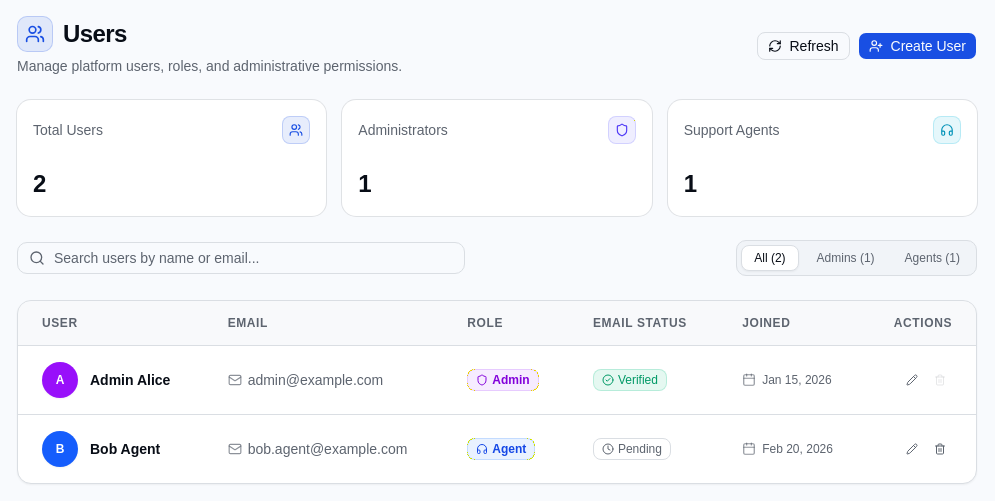
UsersPage Component › 4. Role Filtering › restores all users when clicking 'All' filter button
Expected: the text "Admin Alice" is shown, [90,372,170,388]
Note: Filter to Admins first
Click the button "Admins (1)": (846, 258) [805,246,887,270]
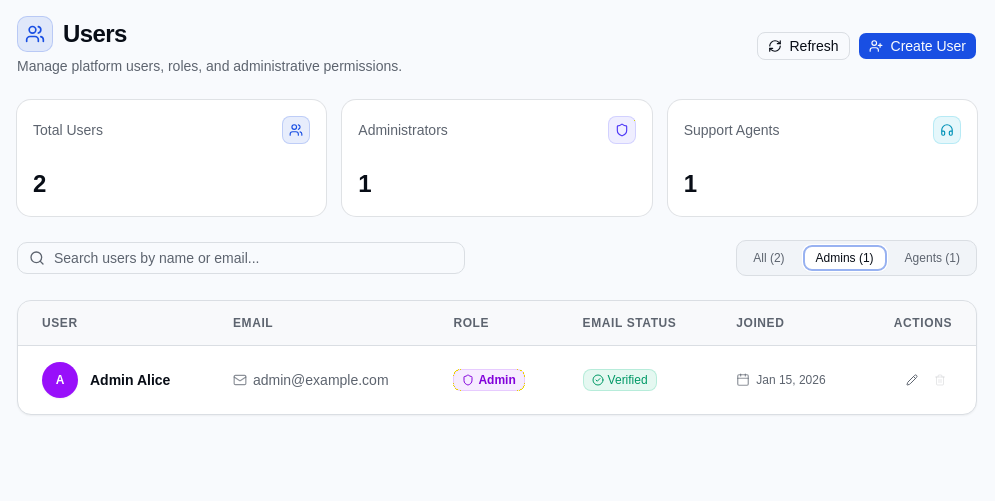
Now the text "Bob Agent" is gone
Note: Click All
Click the button "All (2)": (769, 258) [741,246,797,270]
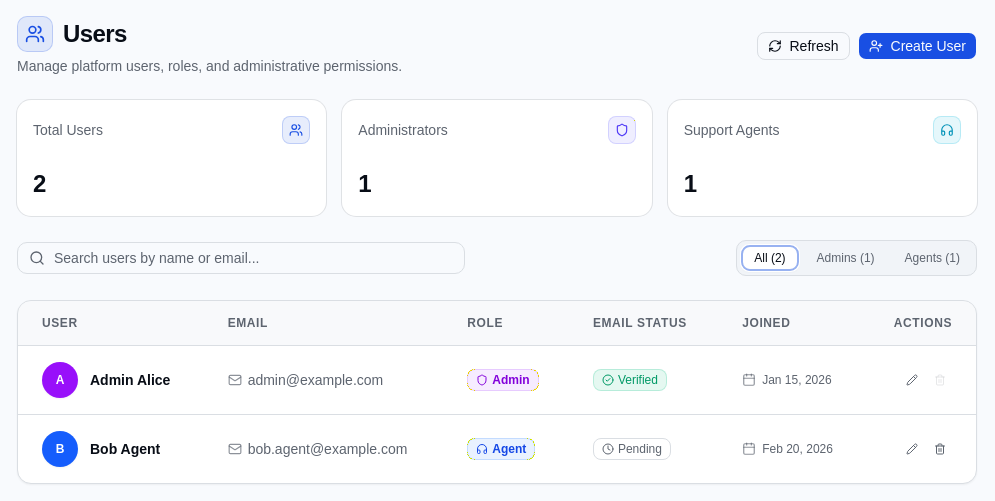
Expected: the text "Admin Alice" is shown, [90,372,170,388]
Now the text "Bob Agent" is shown, box [90,441,160,457]
